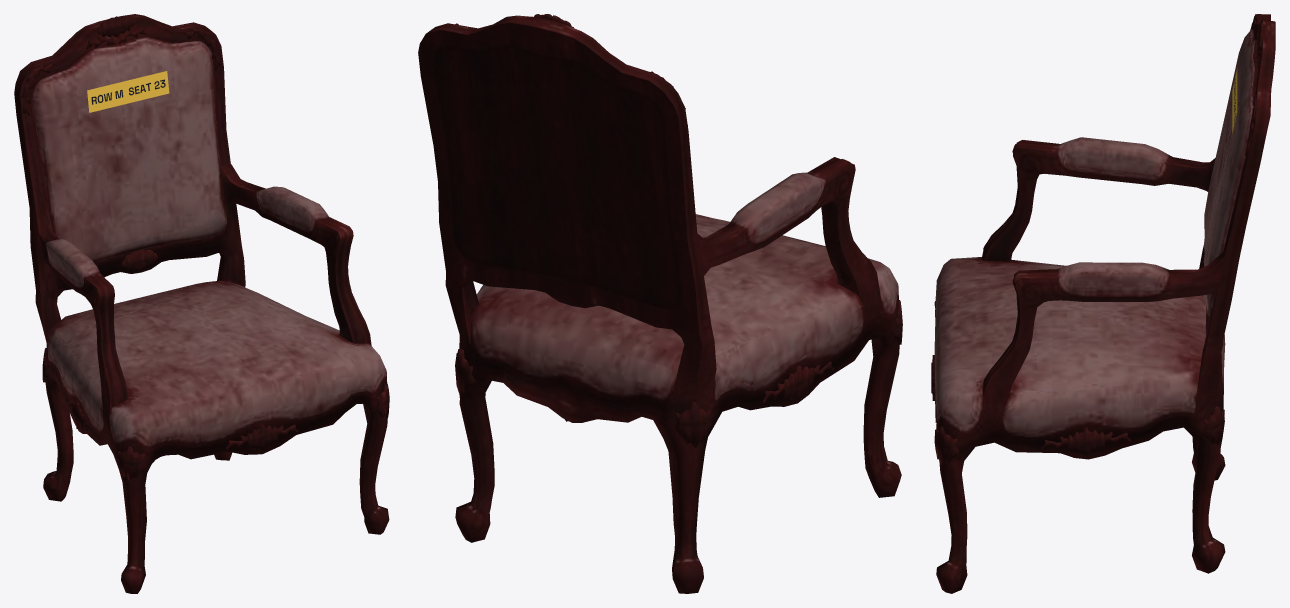
File: u_nyb_mmmystery_seat.glb
3 views of the same model, side by side, from view 1: azimuth 30°, elevation 25°; view 2: azimuth 150°, elevation 25°; view 3: azimuth 270°, elevation 25° (orthographic). The views are drawn at different scales.
Parts seen in each view (by area): view 1: GreenChair_01, stk_lbl_ee090a3062.png; view 2: GreenChair_01; view 3: GreenChair_01.
Boxes of the visible parts, bbox=[...] form: GreenChair_01: bbox=[14, 14, 389, 593]; stk_lbl_ee090a3062.png: bbox=[87, 71, 169, 112]; GreenChair_01: bbox=[418, 14, 902, 593]; GreenChair_01: bbox=[931, 14, 1275, 593].
Bounding box in the file's own units: 0.6731 × 1.06 × 0.6644.
Materials: 2 (2 with a texture image).
